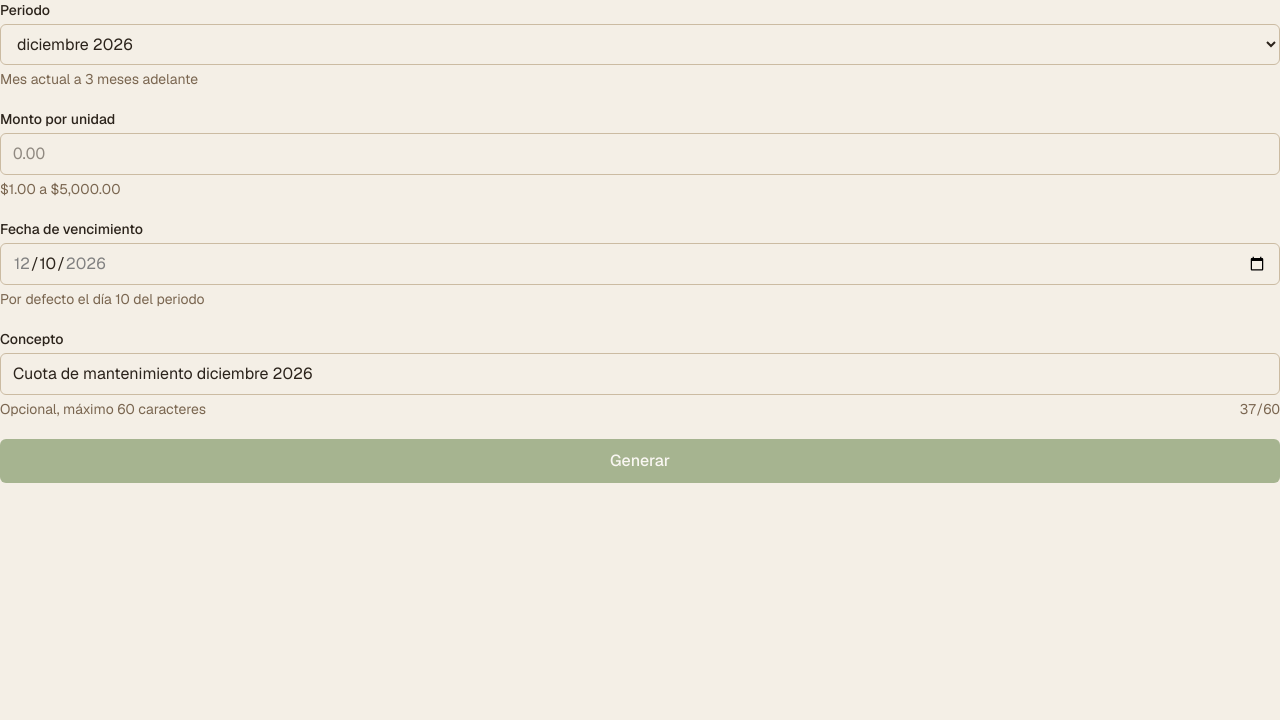
Test case: H3. Generación mensual de cuotas › AC3: al confirmar genera las cuotas y muestra cuántas se crearon y cuántas unidades se omitieron
Type "35.50" into the number field labelled "Monto por unidad". click: {"x": 640, "y": 154}
box: [0,133,1279,175]
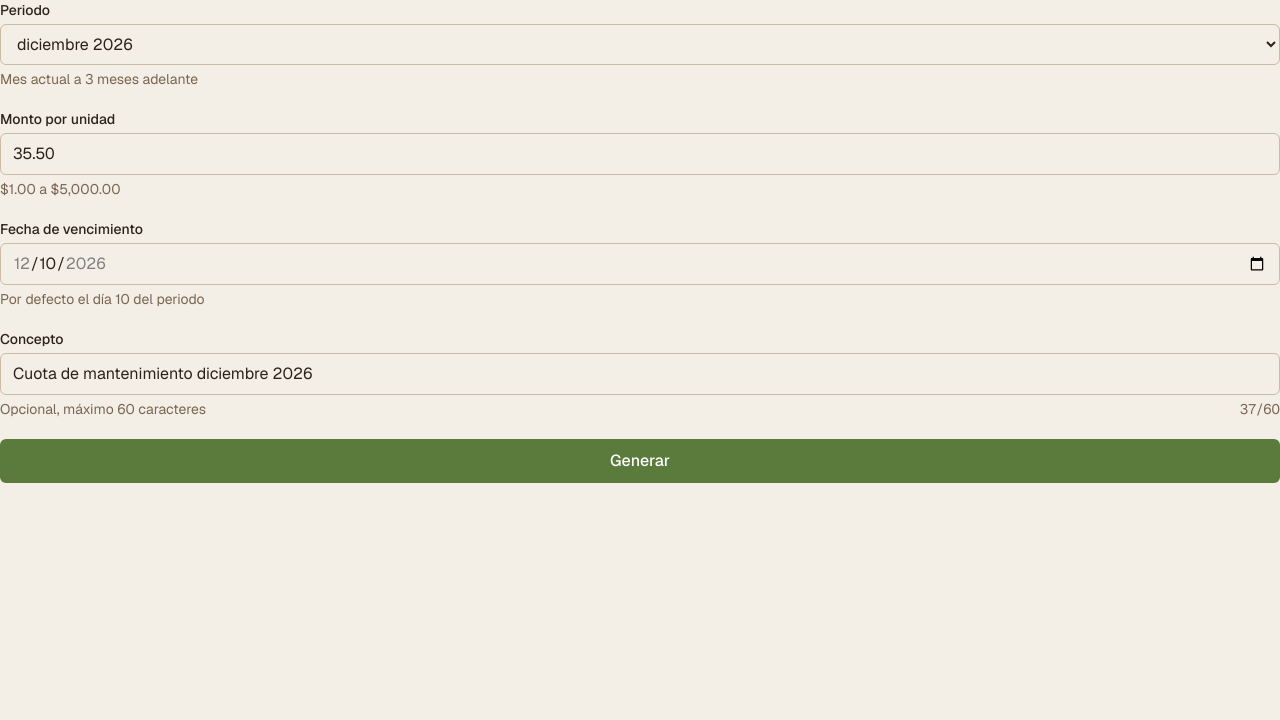
Click the button "Generar". click: {"x": 640, "y": 461}
box: [0,439,1279,483]
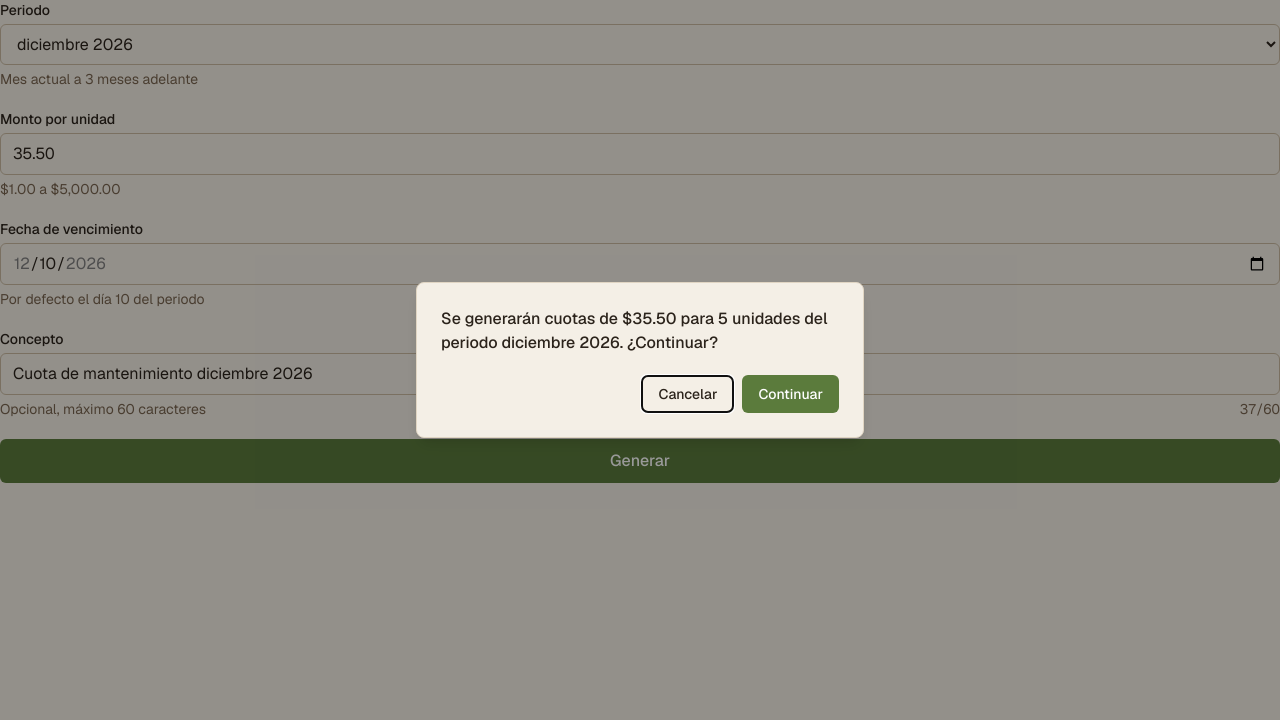
Click the button "Continuar". click: {"x": 791, "y": 394}
box: [742,375,839,413]
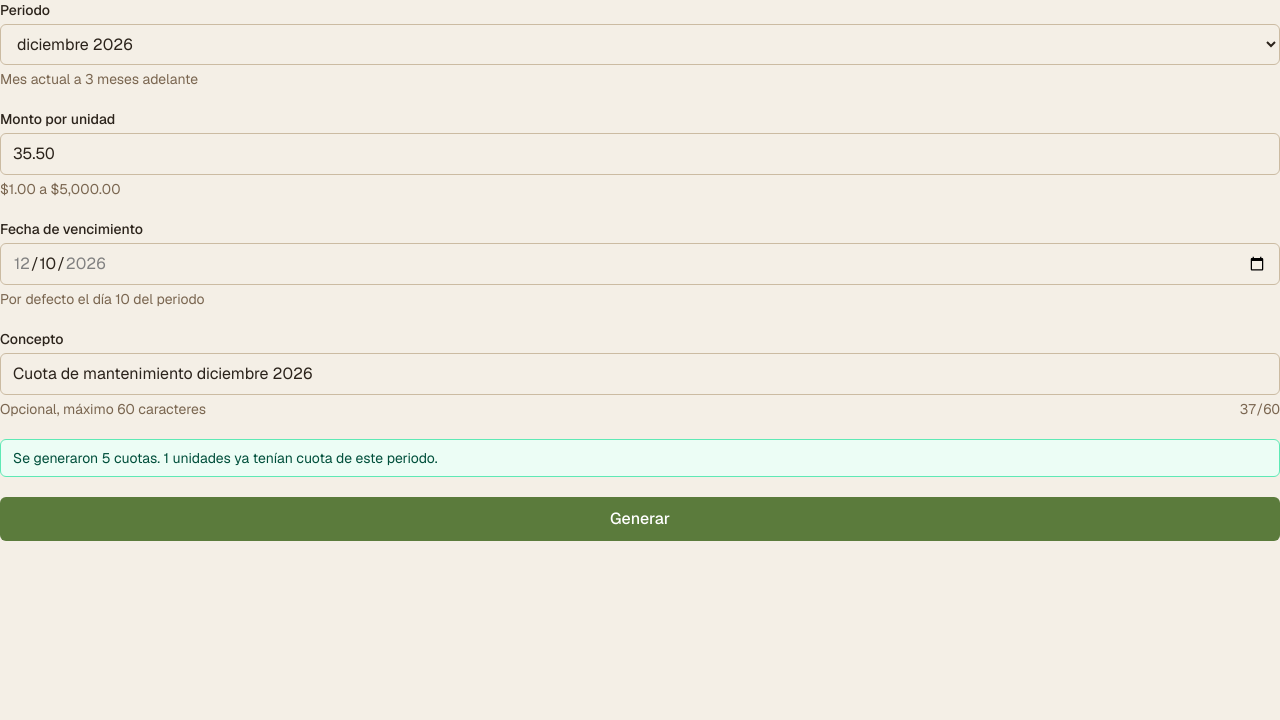
Result: the message reads "Se generaron 5 cuotas. 1 unidades ya tenían cuota de este periodo." at [13,449,438,467]
